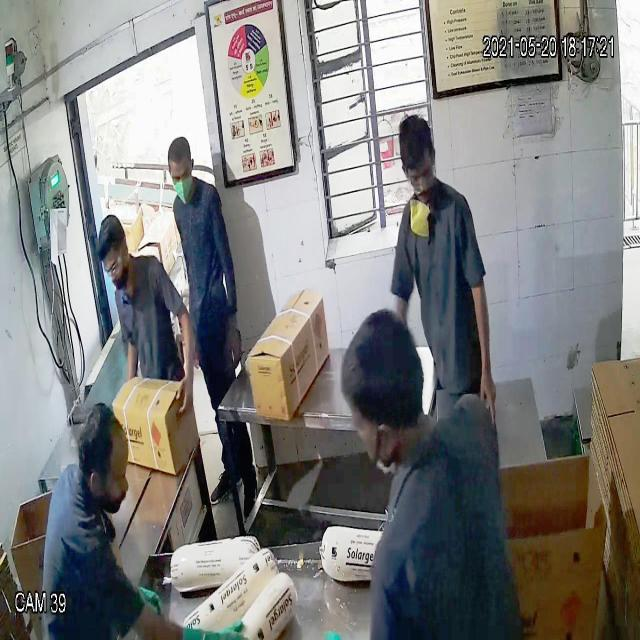glasses: (402, 163, 440, 196), (99, 250, 127, 282)
no-glass: (87, 461, 133, 499), (166, 164, 196, 192)
